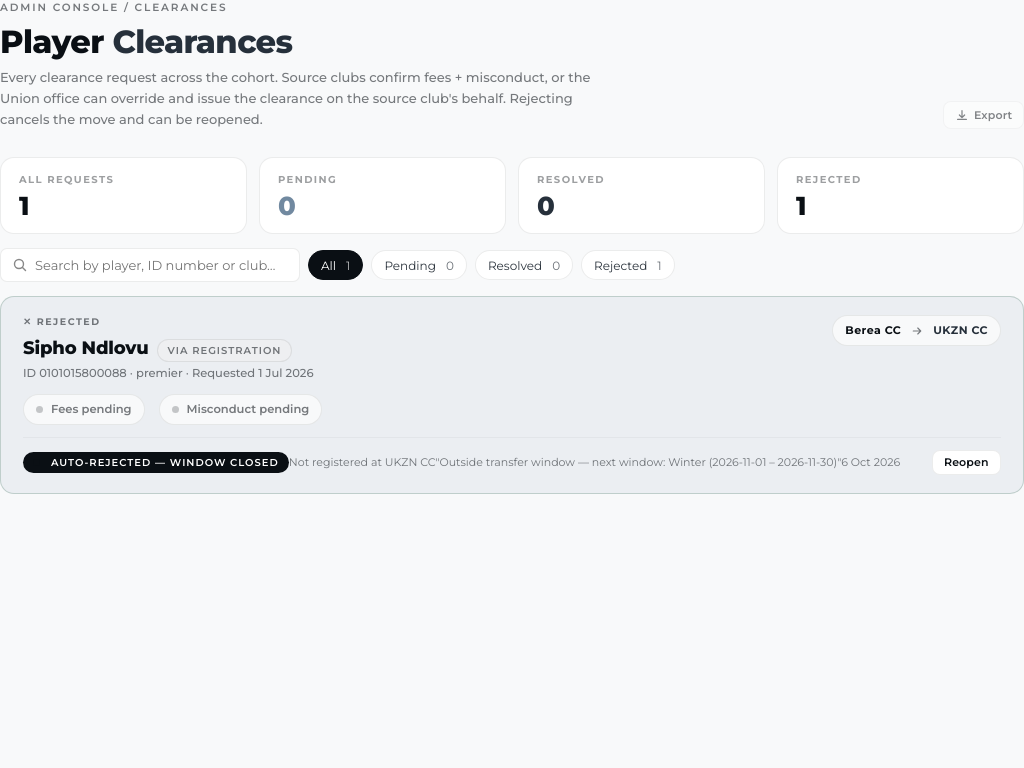
Test case: auto-rejected clearances › reopen copy says the player goes onto the roster as clearance pending
Click the button "Reopen".
click(967, 463)  # box left=932, top=450, right=1001, bottom=475
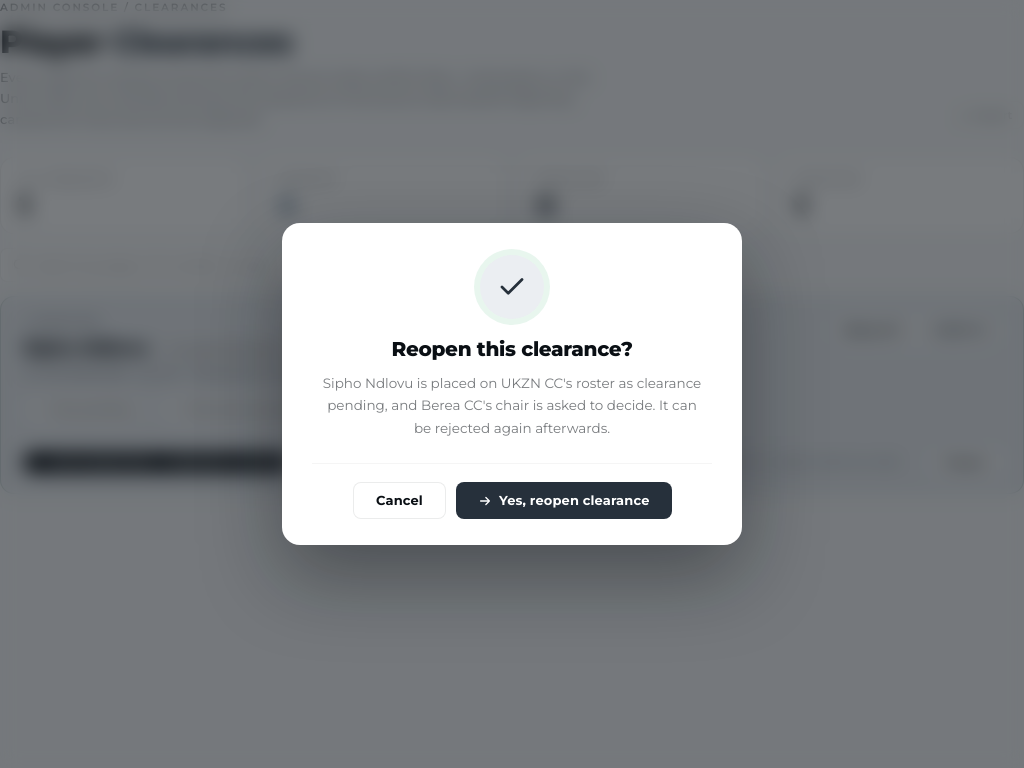
Result: the text "placed on UKZN CC's roster as clearance pending" is shown at left=323, top=375, right=701, bottom=436
